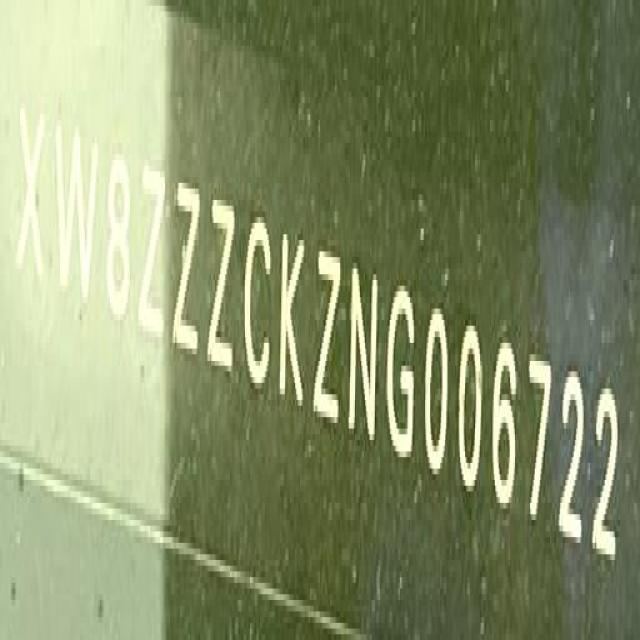0: (454, 310, 484, 499), (422, 295, 452, 480)
2: (592, 378, 623, 569), (557, 364, 585, 561)
6: (492, 324, 520, 514)
7: (526, 335, 552, 537)
8: (107, 142, 134, 331)
C: (242, 202, 274, 399)
G: (388, 269, 419, 468)
K: (277, 218, 307, 415)
N: (346, 237, 380, 461)
W: (53, 107, 100, 310)
X: (18, 90, 48, 295)
Z: (312, 236, 342, 436), (136, 148, 166, 346), (175, 164, 204, 368), (208, 182, 237, 382)
